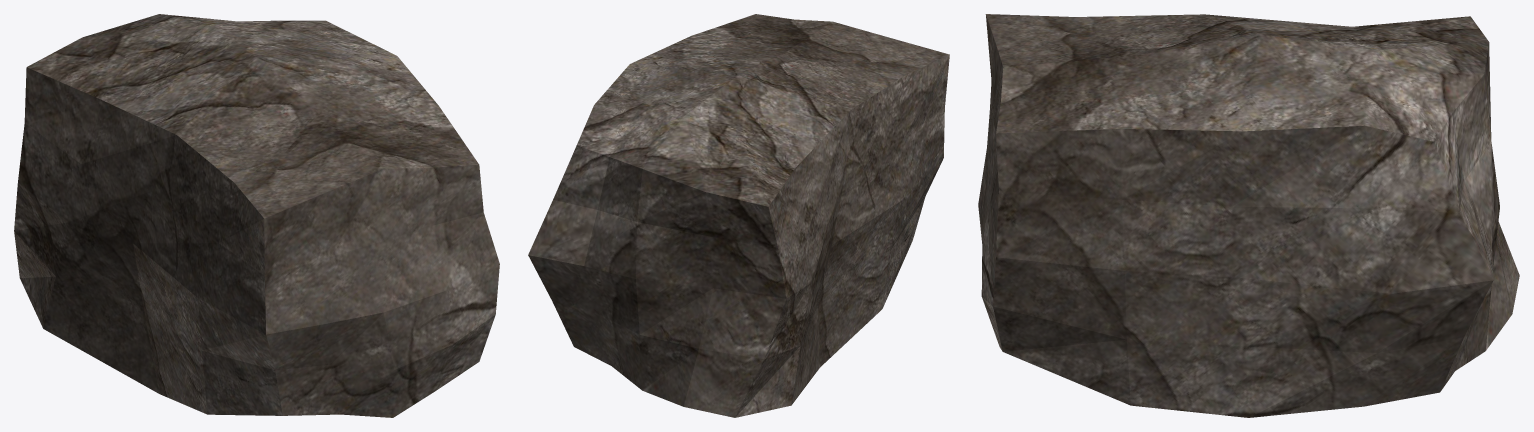
File: Rock_1.obj
3 views of the same model, side by side, from view 1: azimuth 30°, elevation 25°; view 2: azimuth 150°, elevation 25°; view 3: azimuth 270°, elevation 25° (orthographic). The views are drawn at different scales.
Parts seen in each view (by area): view 1: Rock_1_Cube.003; view 2: Rock_1_Cube.003; view 3: Rock_1_Cube.003.
Part boxes in pixels (x1,y1,x2,y2): Rock_1_Cube.003: (14, 14, 499, 417); Rock_1_Cube.003: (528, 14, 949, 417); Rock_1_Cube.003: (978, 14, 1519, 417).
Size of the model in its own units: 1.44 by 1.56 by 2.19.
Materials: 1 (1 with a texture image).
